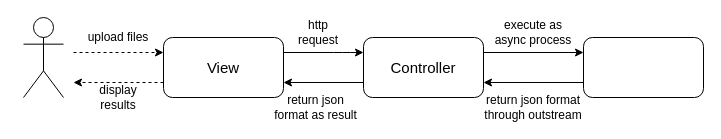
The diagram is 721 pixels wide and 139 high, and some of its shapes have lost their labels. The shapes that lost their labels are listed below. From the top down, each one's centre as x and y in pixels, then its label:
At (43,57): "Web User".
At (643,67): "Models".
